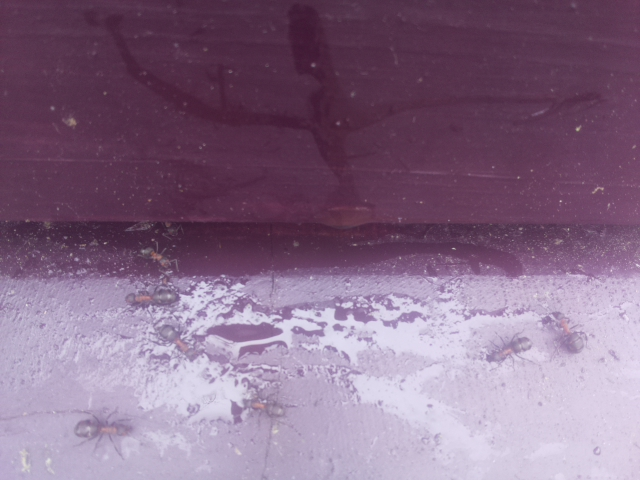ant: (151, 318, 200, 363), (68, 415, 137, 444), (118, 284, 183, 310), (490, 333, 535, 365), (555, 313, 586, 356), (139, 243, 173, 271), (247, 400, 288, 417)
